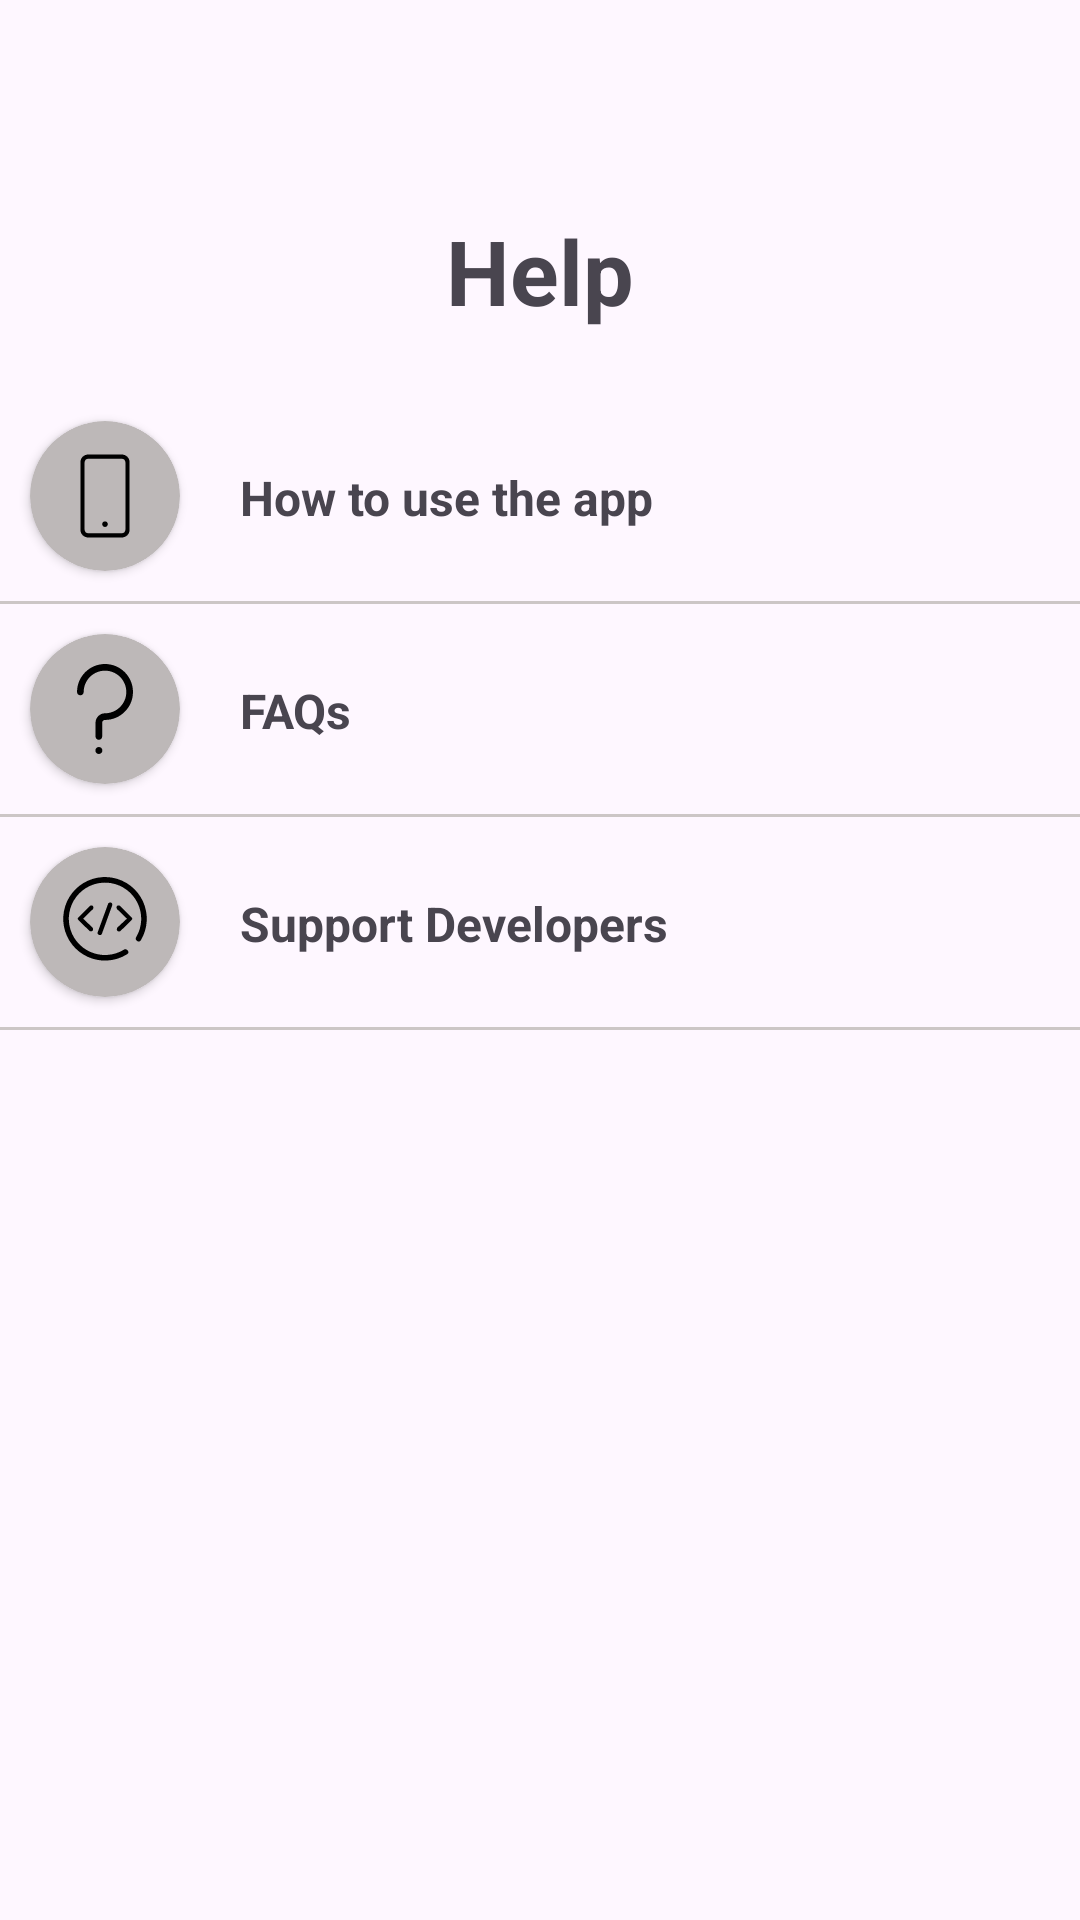

Icons on this 1080x1920 Android screen, each with its box as (x1,y1,x2,y2):
developericon: (63,877,147,961)
mobileicon: (80,454,130,538)
questionicon: (77,664,133,754)
